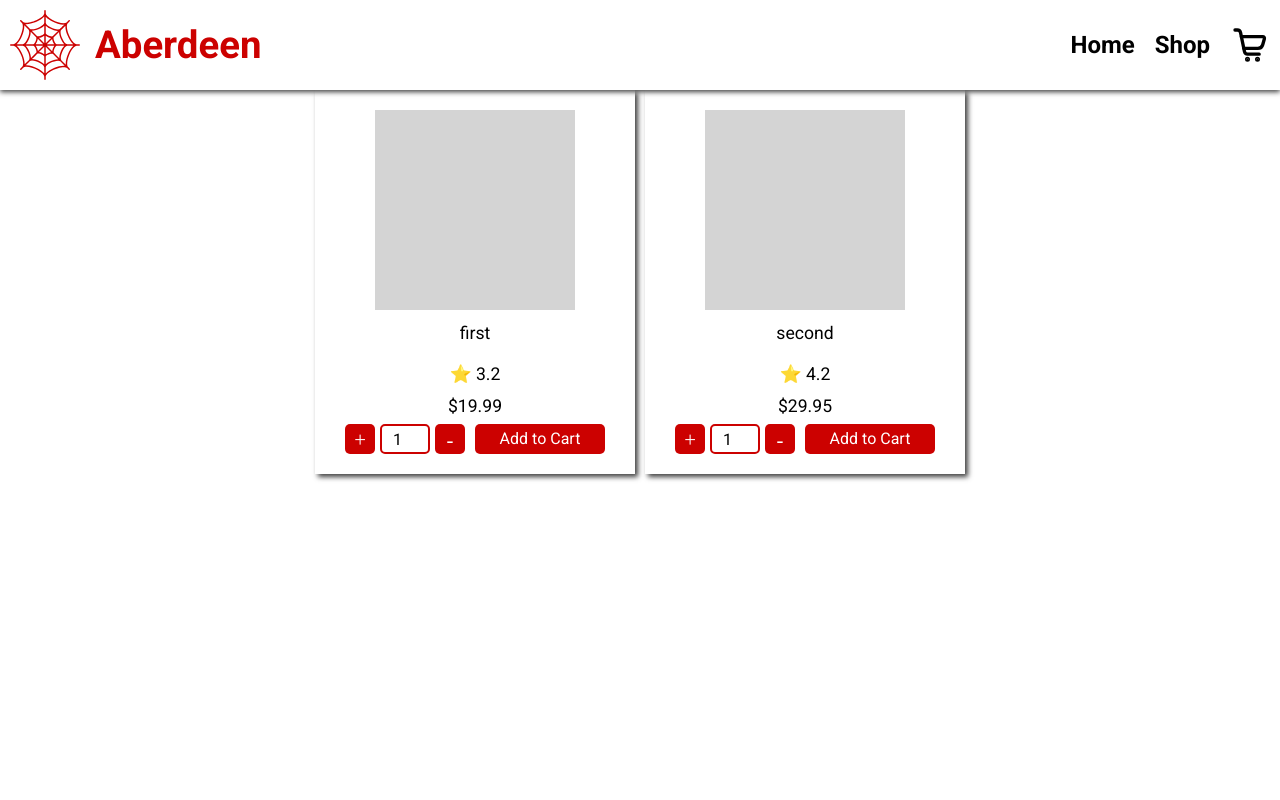
Test: shopping cart component › should clear cart on order placement
This screenshot has width=1280, height=800.
Click the button "Add to Cart" below "first" at (540, 439), box [475,424,605,454]
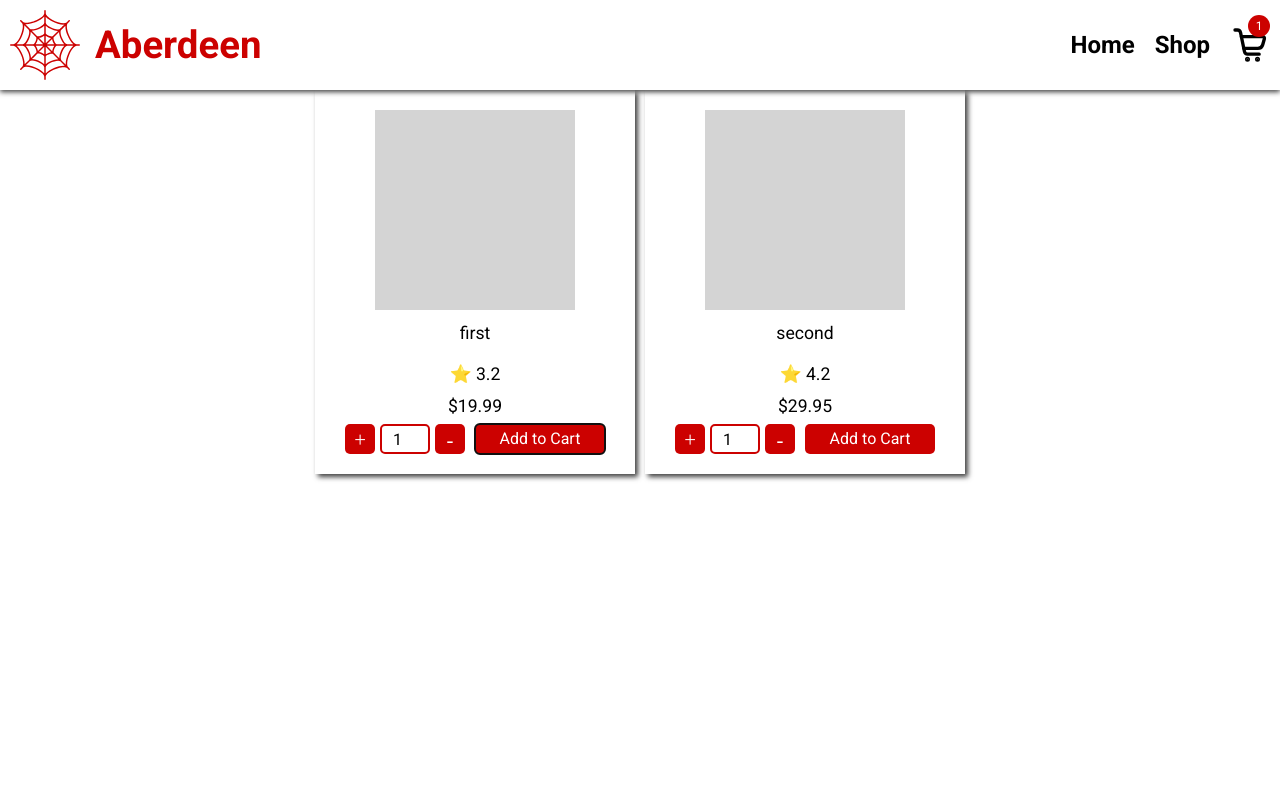
Click the button "+" below "second" at (690, 439), box [675,424,705,454]
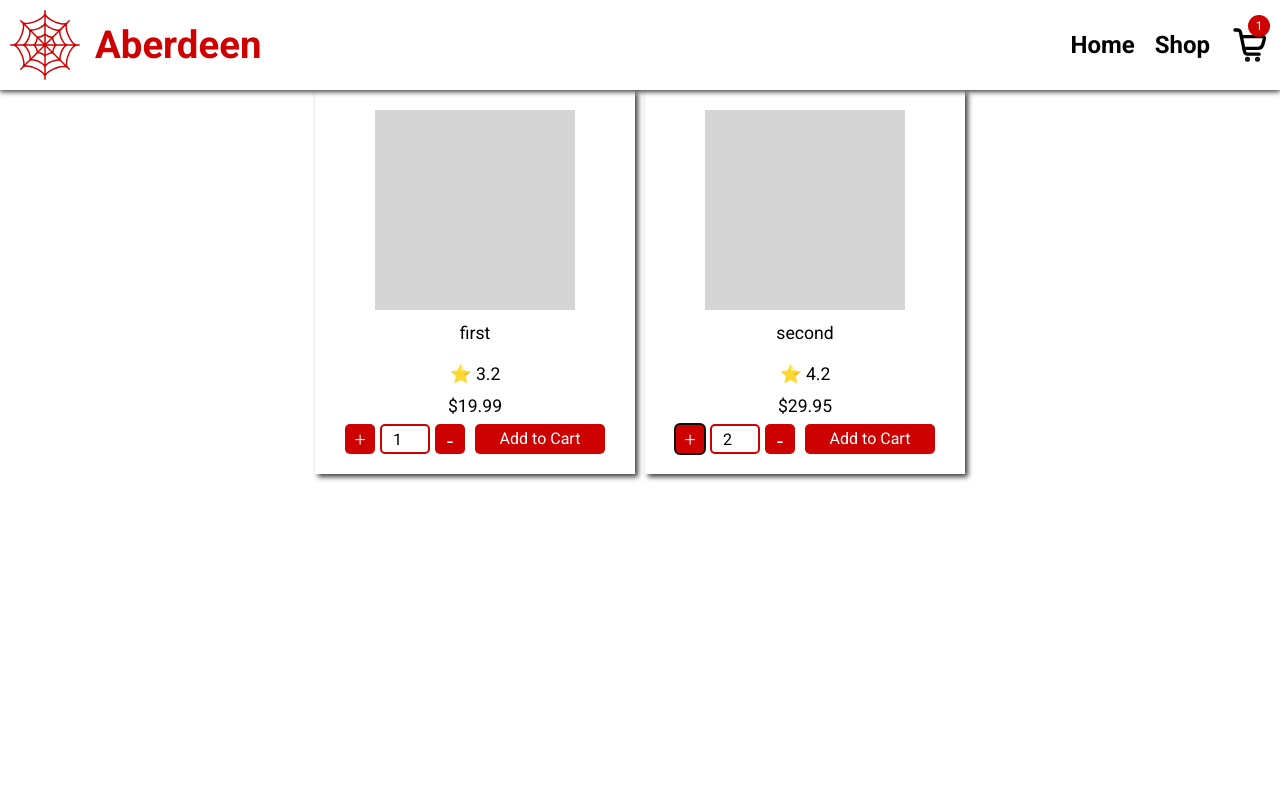
Click the button "Add to Cart" below "second" at (870, 439), box [805,424,935,454]
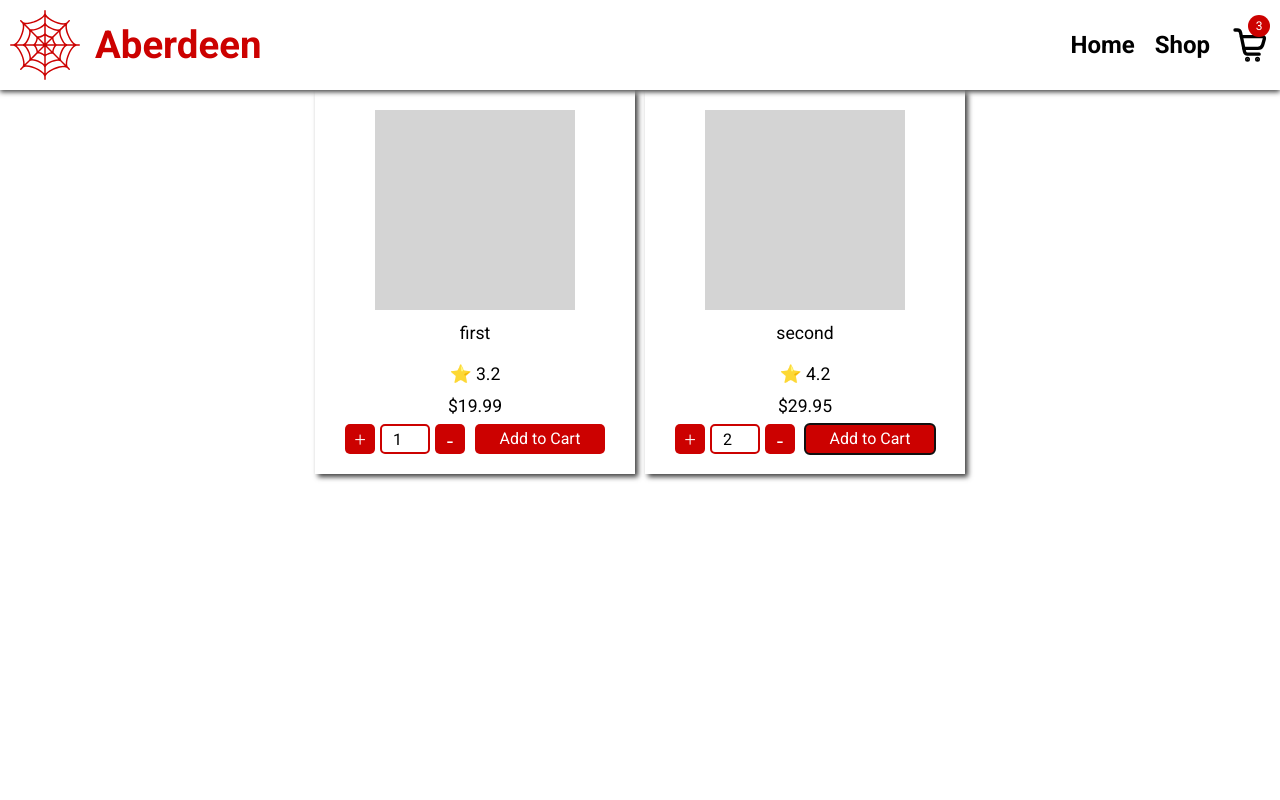
Click the link with test id "cart-button" at (1230, 25), box [1230,25,1270,65]
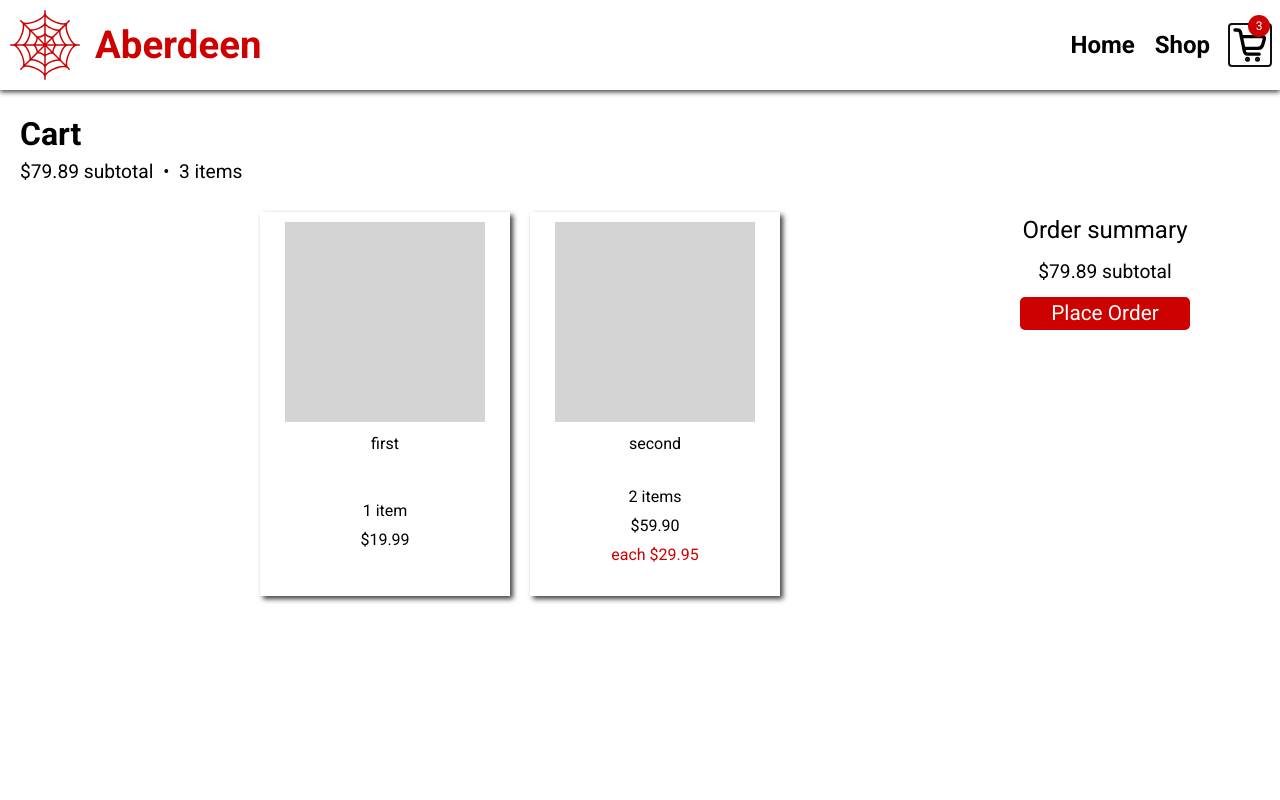
Result: the text with test id "total-cart-count" reads "3 items" at [179,160,242,183]
Click the button "Place Order" at (1105, 313), box [1020,297,1190,330]
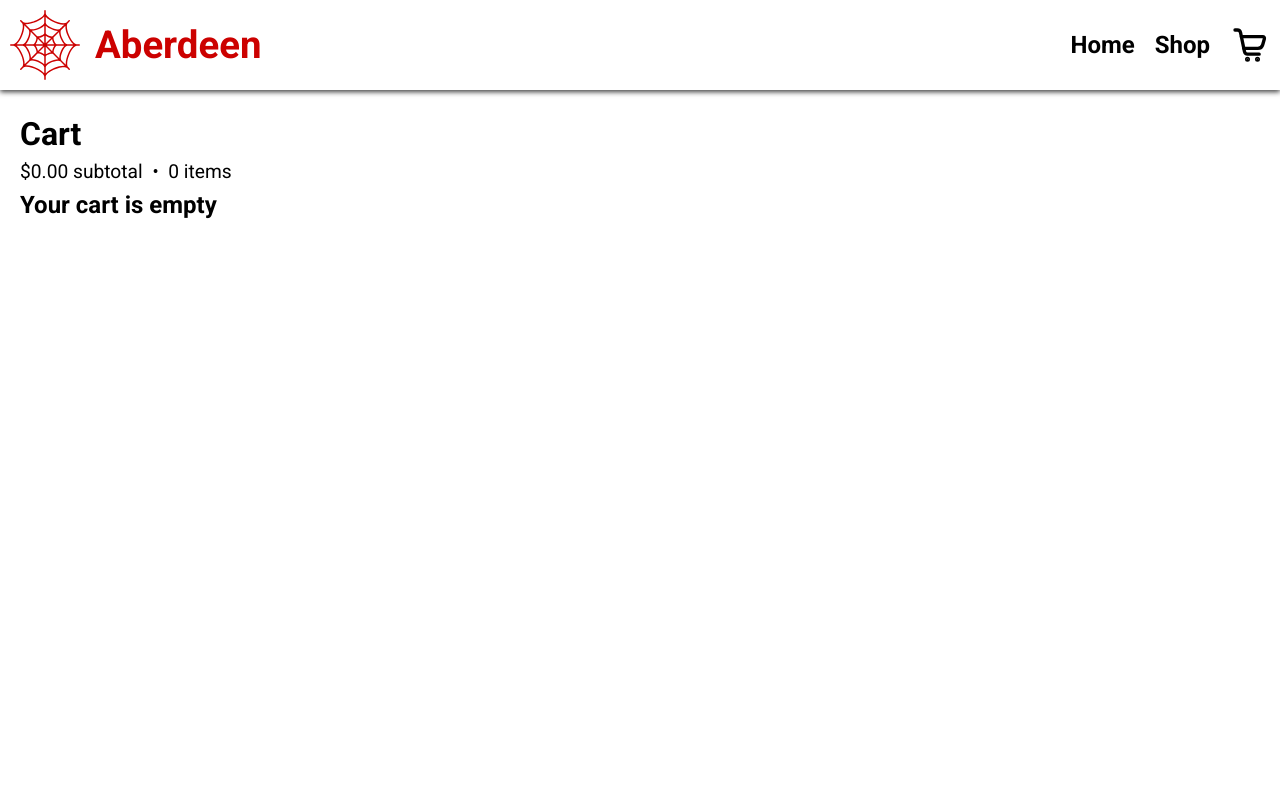
Result: the text with test id "total-cart-count" reads "0 items" at [168,160,232,183]
